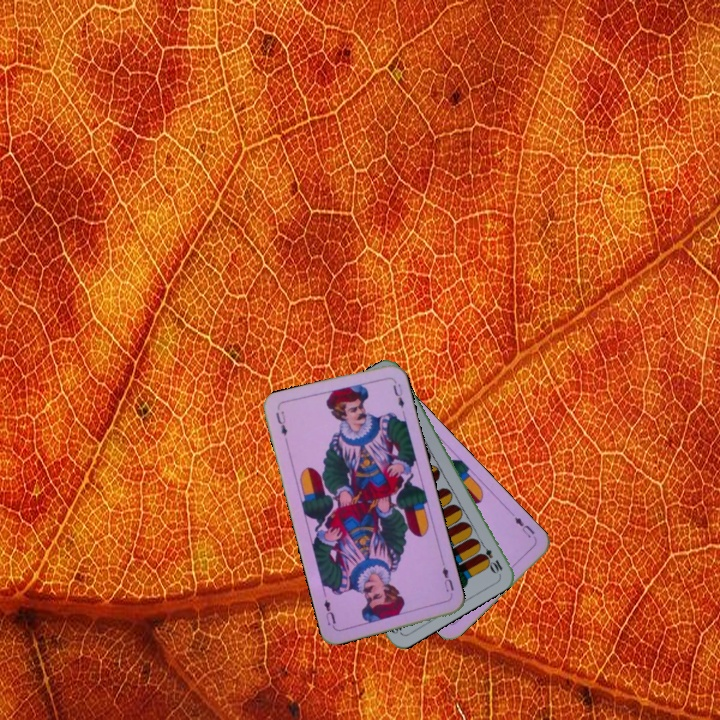E10: (476, 538, 505, 576)
EU: (510, 512, 538, 541), (438, 559, 456, 595), (272, 407, 290, 438)
